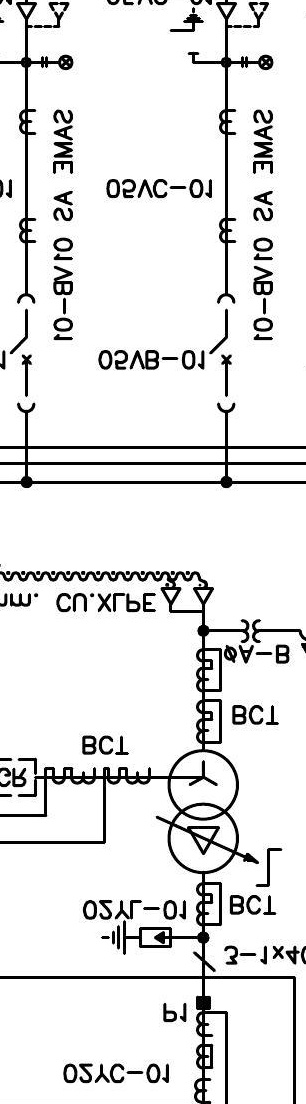11522_tx_dyn1: (167, 748, 240, 875)
115_la: (100, 919, 173, 956)
22_breaker: (7, 293, 36, 414), (208, 293, 237, 414)
22_gs: (168, 6, 205, 56)
22_ll: (241, 54, 275, 71), (41, 54, 74, 70)
terminator_double: (160, 587, 214, 614)
terminator_w_future: (14, 1, 71, 29), (215, 1, 271, 29)
